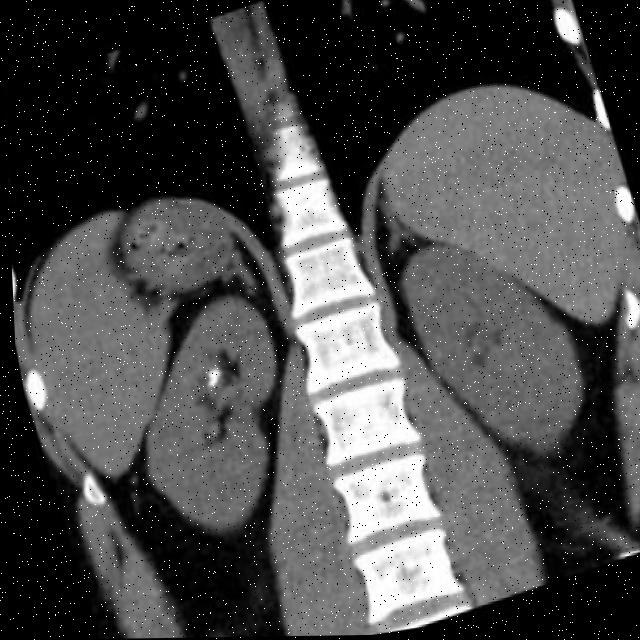Tas_Var: (202, 365, 218, 381), (199, 375, 216, 389)
